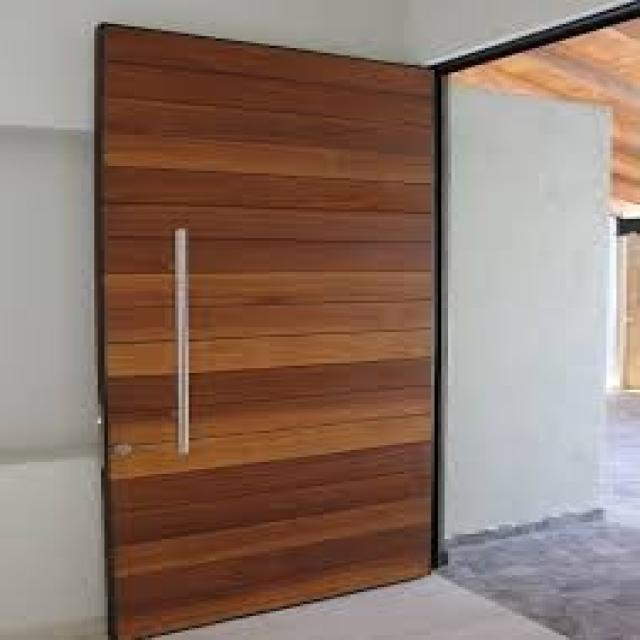door: (94, 20, 442, 639)
